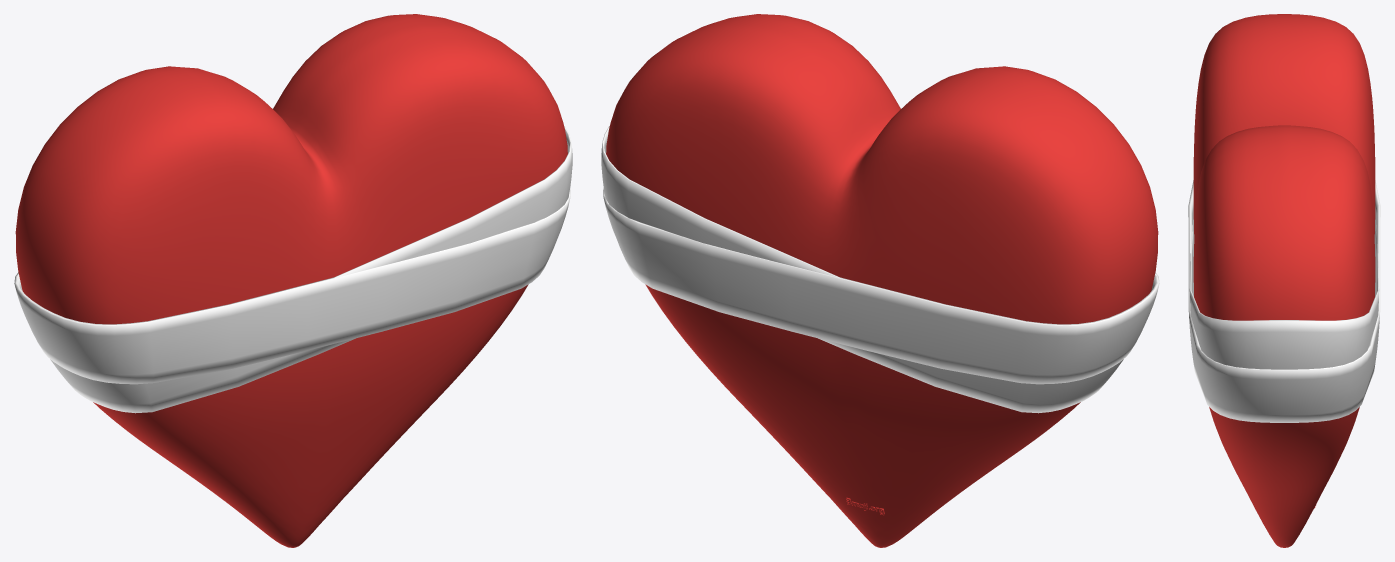
File: mending_heart.fbx
3 renders of one model, left to right at view 1: azimuth 30°, elevation 25°; view 2: azimuth 150°, elevation 25°; view 3: azimuth 270°, elevation 25°, orthographic. The views are drawn at different scales.
Parts seen in each view (by area): view 1: hfdjkslfjkds.017; view 2: hfdjkslfjkds.017; view 3: hfdjkslfjkds.017.
Part boxes in pixels (bbox=[...]): hfdjkslfjkds.017: bbox=[14, 14, 572, 547]; hfdjkslfjkds.017: bbox=[601, 14, 1159, 547]; hfdjkslfjkds.017: bbox=[1188, 14, 1380, 547].
Bounding box in the file's own units: 188 × 168 × 62.9.
Materials: 1 (1 with a texture image).
